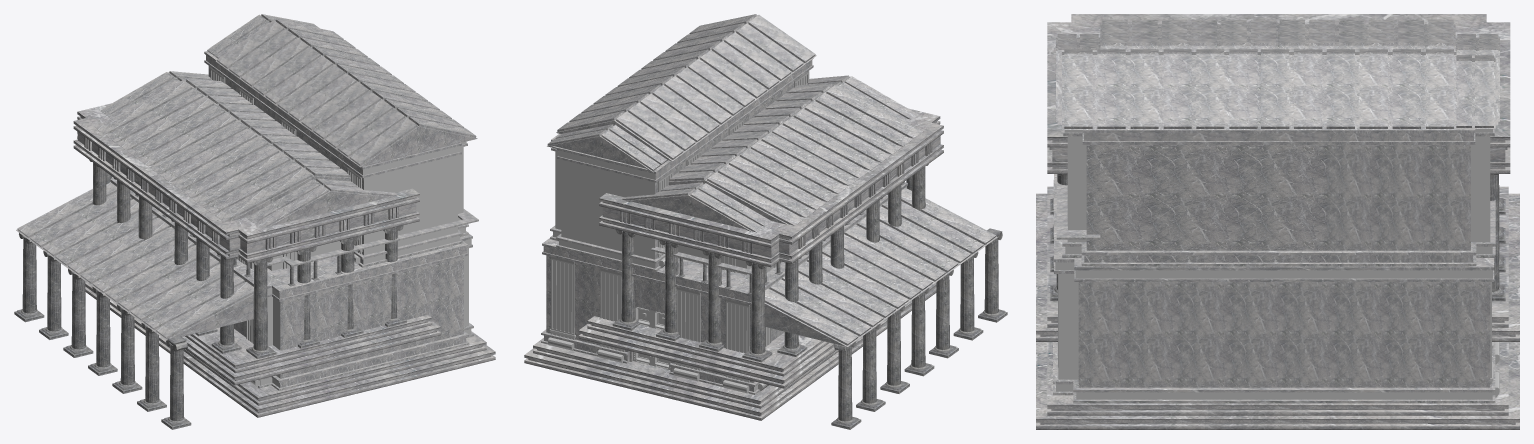
The model's file is houses.FBX.
3 views of the same model, side by side, from view 1: azimuth 30°, elevation 25°; view 2: azimuth 150°, elevation 25°; view 3: azimuth 270°, elevation 25° (orthographic). The views are drawn at different scales.
Parts seen in each view (by area): view 1: Object100, Object099; view 2: Object100, Object099; view 3: Object100, Object099.
Boxes of the visible parts, x1,y1,x2,y2 form: Object100: (14, 14, 495, 429); Object099: (73, 71, 440, 385); Object100: (524, 14, 1007, 429); Object099: (578, 75, 943, 388); Object100: (1036, 49, 1519, 429); Object099: (1036, 14, 1519, 341).
Size of the model in its own units: 15.38 by 11.37 by 15.
